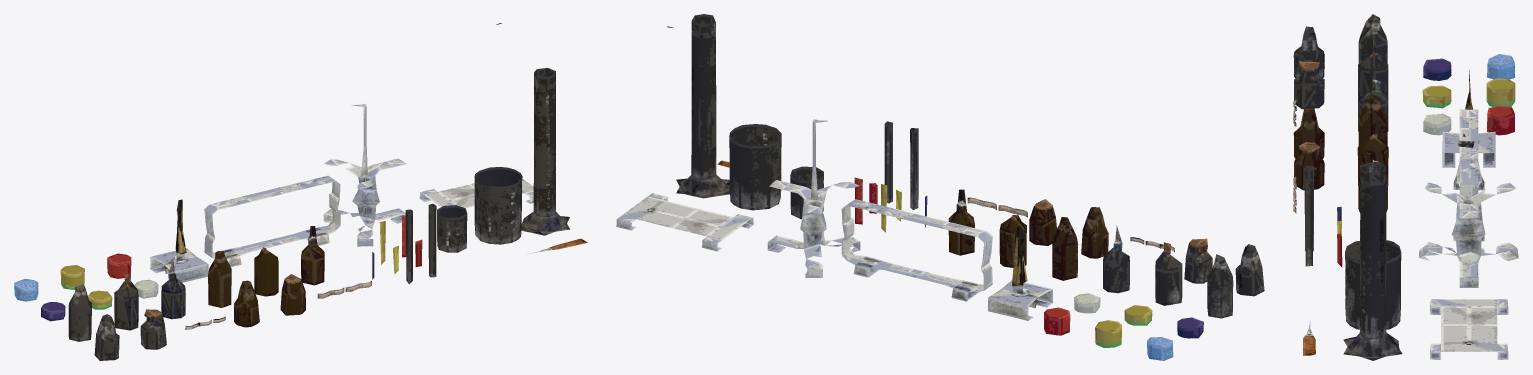
File: chemistry_set.glb
The picture shows the model from 3 angles, left to right: view 1: azimuth 30°, elevation 25°; view 2: azimuth 150°, elevation 25°; view 3: azimuth 270°, elevation 25°; orthographic projection. The views are drawn at different scales.
Visible parts, largest first — view 1: mesh; view 2: mesh; view 3: mesh.
Boxes of the visible parts, left/top/right/bottom form: mesh: left=14, top=23, right=587, bottom=360; mesh: left=616, top=14, right=1264, bottom=360; mesh: left=1293, top=14, right=1518, bottom=360.
Size of the model in its own units: 1.26 by 0.429 by 0.4132.
Materials: 1 (1 with a texture image).
